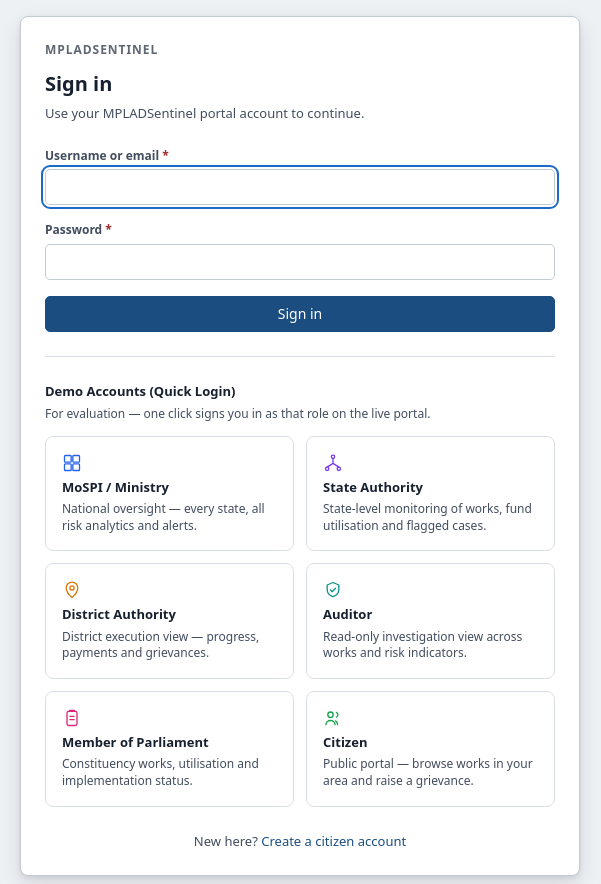
Test case: LoginPage › Demo Accounts (Quick Login) › shows an error and re-enables the buttons when a quick login fails
Click the button "MoSPI / Ministry" at (170, 494), box x1=45 y1=436 x2=294 y2=551
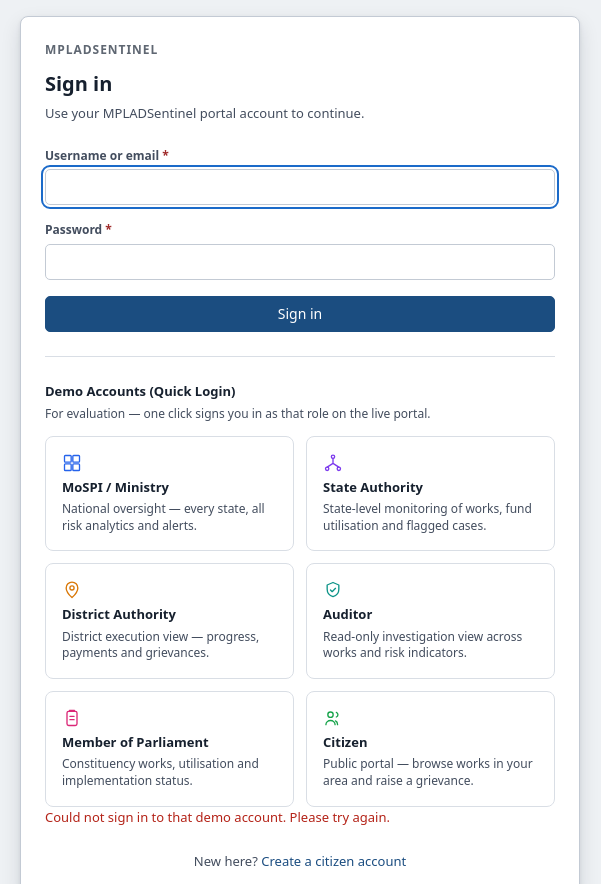
Expected: the button "District Authority" is enabled, x1=45 y1=563 x2=294 y2=679
Now the message shows "Could not sign in to that demo account.", box x1=45 y1=808 x2=390 y2=826
